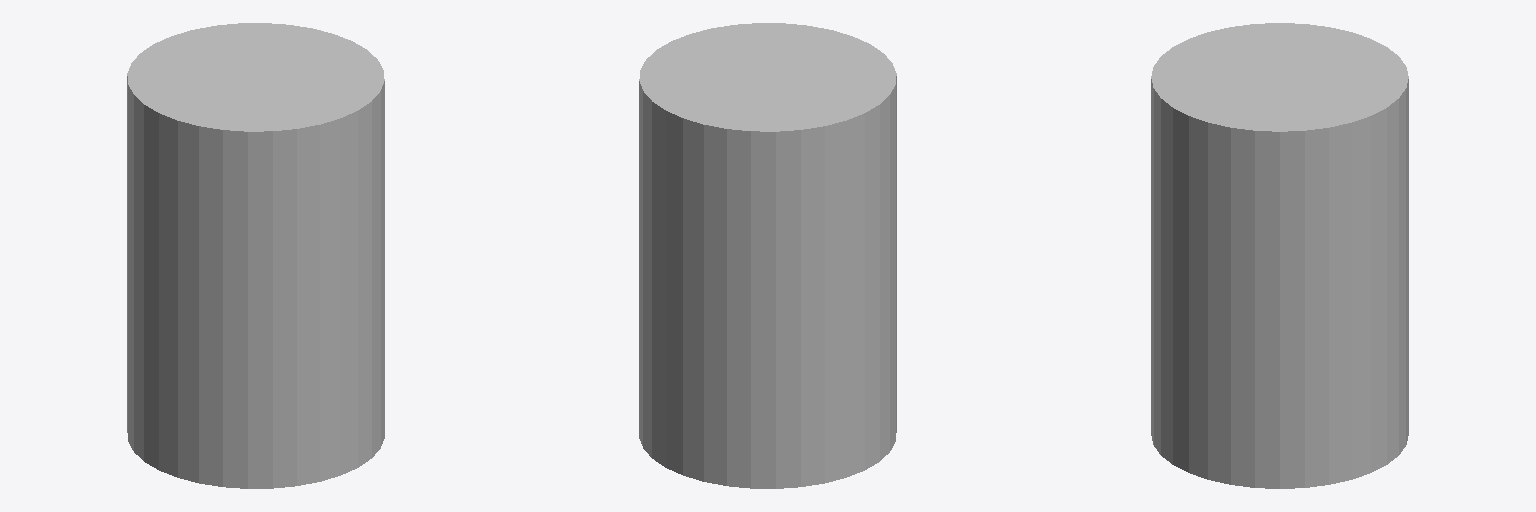
The model's file is Player.obj.
The picture shows the model from 3 angles: view 1: azimuth 30°, elevation 25°; view 2: azimuth 150°, elevation 25°; view 3: azimuth 270°, elevation 25°; orthographic projection.
Visible parts, largest first — view 1: Cylinder; view 2: Cylinder; view 3: Cylinder.
Part boxes in pixels (x1,y1,x2,y2): Cylinder: (127, 23, 384, 488); Cylinder: (639, 23, 896, 488); Cylinder: (1151, 23, 1408, 488).
Bounding box in the file's own units: 2 × 3.06 × 2.